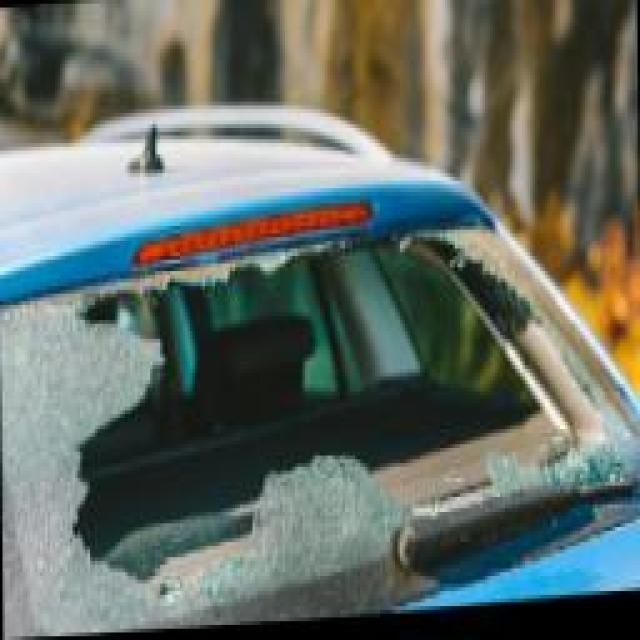Windshield: (5, 222, 640, 640)
